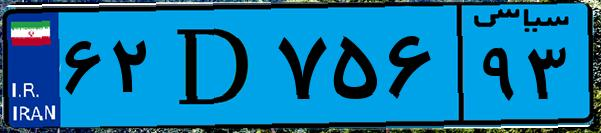2: (110, 28, 158, 98)
3: (525, 38, 570, 115)
5: (330, 28, 385, 110)
6: (385, 28, 445, 110), (57, 26, 110, 100)
7: (270, 28, 330, 110)
9: (475, 38, 525, 113)
D: (158, 12, 270, 120)
